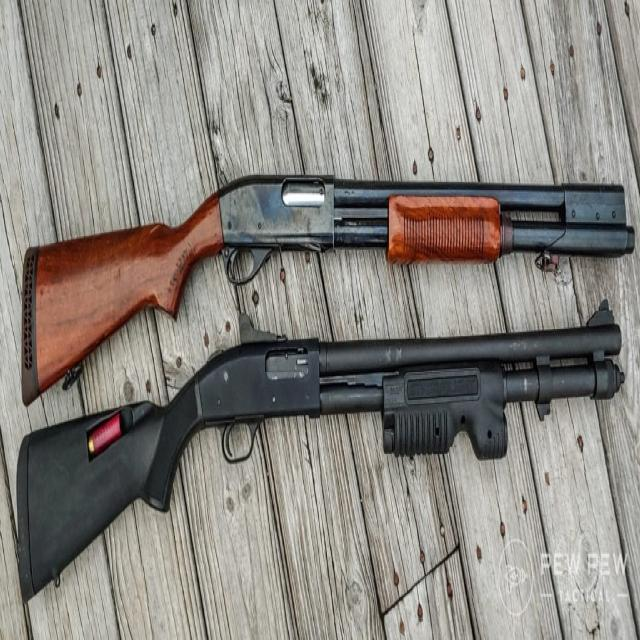ShotGun: (14, 303, 626, 601), (22, 176, 635, 404)
